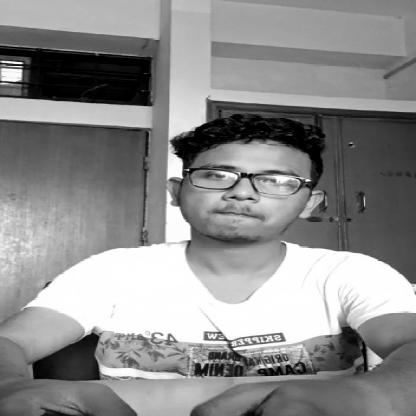Normal: (171, 122, 340, 236)
